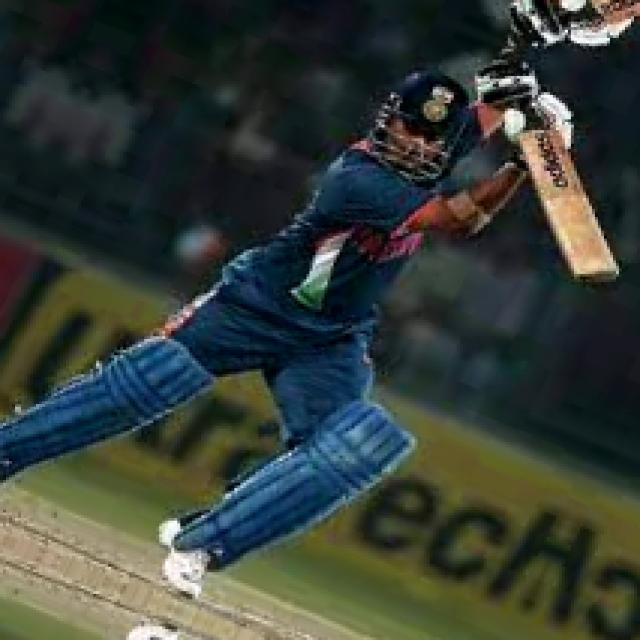bat: (521, 121, 623, 290)
toe: (576, 266, 619, 285)
